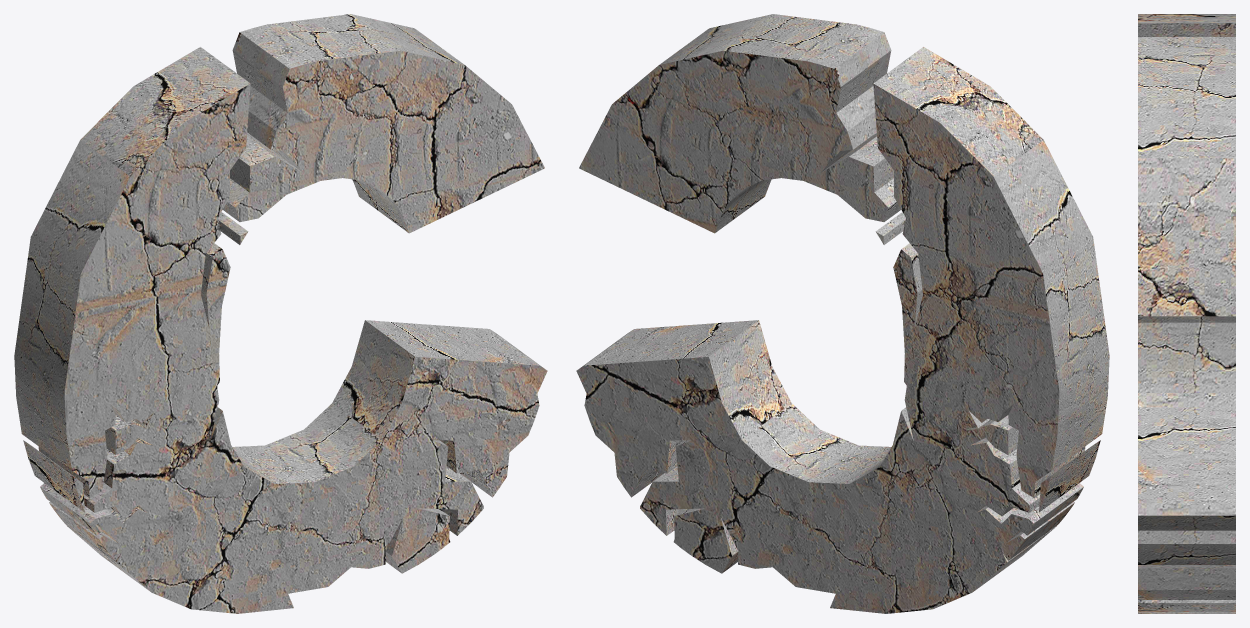
3 renders of one model, left to right at view 1: azimuth 30°, elevation 25°; view 2: azimuth 150°, elevation 25°; view 3: azimuth 270°, elevation 25°, orthographic. The views are drawn at different scales.
Visible parts, largest first — view 1: C; view 2: C; view 3: C.
Boxes of the visible parts, left/top/right/bottom form: C: left=14, top=14, right=547, bottom=613; C: left=576, top=14, right=1109, bottom=613; C: left=1138, top=14, right=1235, bottom=613.
Size of the model in its own units: 83.39 by 89.27 by 15.
Materials: 1 (1 with a texture image).
